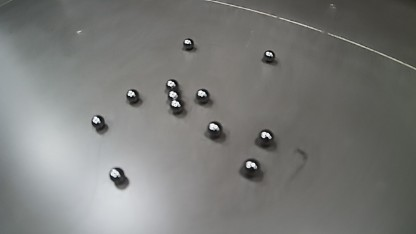ironball: (240, 155, 261, 180), (118, 87, 144, 107), (87, 114, 106, 137), (107, 165, 126, 186), (167, 98, 187, 117), (196, 83, 213, 105), (260, 125, 277, 147), (207, 119, 224, 138), (181, 37, 199, 54), (263, 47, 278, 64), (164, 87, 181, 102), (164, 77, 179, 92)
